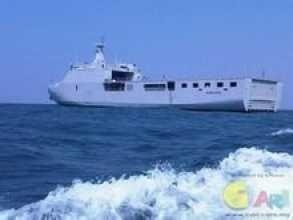warship: (45, 38, 279, 112)
